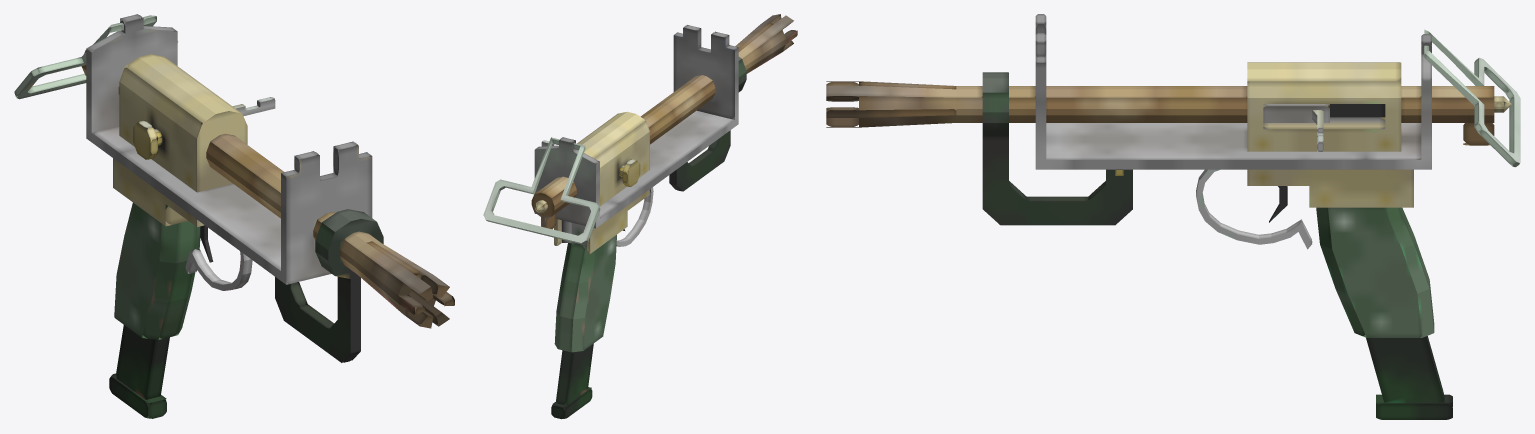
File: UKGUN.obj
3 renders of one model, left to right at view 1: azimuth 30°, elevation 25°; view 2: azimuth 150°, elevation 25°; view 3: azimuth 270°, elevation 25°, orthographic. The views are drawn at different scales.
Parts seen in each view (by area): view 1: Cube; view 2: Cube; view 3: Cube.
Part boxes in pixels (x1=…): Cube: x1=14, y1=14, x2=454, y2=418; Cube: x1=483, y1=14, x2=797, y2=419; Cube: x1=826, y1=14, x2=1520, y2=419.
Bounding box in the file's own units: 0.4673 × 1.09 × 1.77.
Materials: 1 (1 with a texture image).
